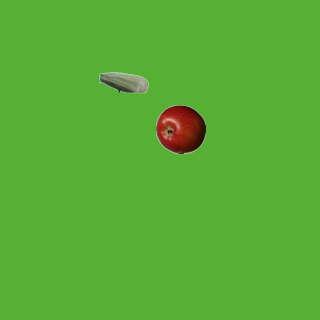Apple Braeburn: (155, 104, 205, 154)
Corn Husk: (98, 57, 148, 107)
